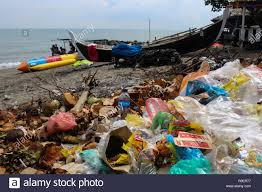garbage: (4, 97, 262, 173), (84, 76, 262, 173), (184, 67, 262, 172)
